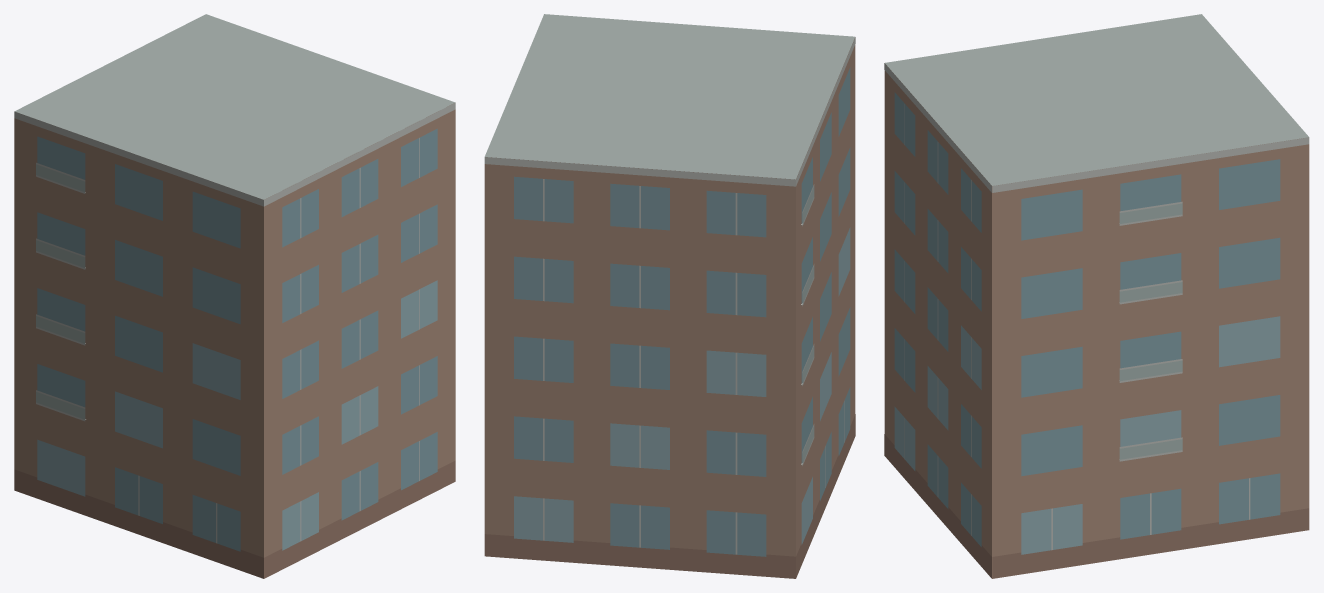
File: survey-upis-32864035.glb
3 views of the same model, side by side, from view 1: azimuth 30°, elevation 25°; view 2: azimuth 150°, elevation 25°; view 3: azimuth 270°, elevation 25° (orthographic). The views are drawn at different scales.
Parts seen in each view (by area): view 1: survey-upis-32864035.tmp; view 2: survey-upis-32864035.tmp; view 3: survey-upis-32864035.tmp.
Boxes of the visible parts, x1,y1,x2,y2 form: survey-upis-32864035.tmp: (14, 14, 455, 578); survey-upis-32864035.tmp: (484, 14, 855, 578); survey-upis-32864035.tmp: (884, 14, 1309, 578).
Bounding box in the file's own units: 12.83 × 13.65 × 13.39.
